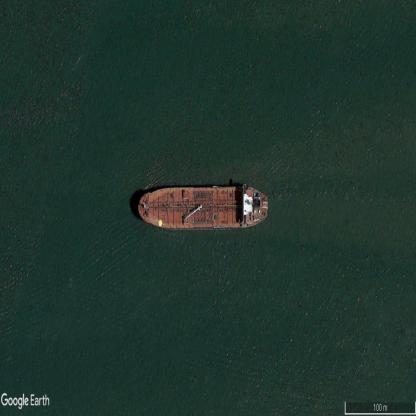ship: (138, 188, 268, 227)
